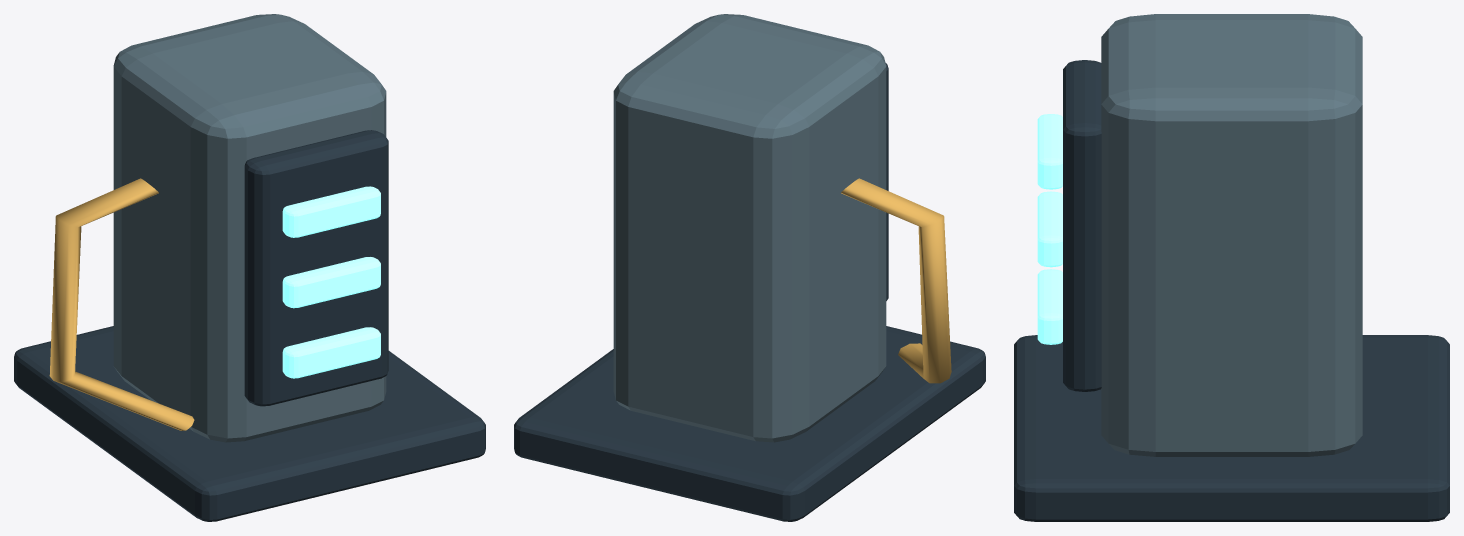
File: SM_Checkpoint.fbx
3 renders of one model, left to right at view 1: azimuth 30°, elevation 25°; view 2: azimuth 150°, elevation 25°; view 3: azimuth 270°, elevation 25°, orthographic. The views are drawn at different scales.
Parts seen in each view (by area): view 1: SM_Checkpoint; view 2: SM_Checkpoint; view 3: SM_Checkpoint.
Part boxes in pixels (x1,y1,x2,y2): SM_Checkpoint: [14, 14, 485, 521]; SM_Checkpoint: [514, 14, 985, 521]; SM_Checkpoint: [1014, 14, 1449, 521].
Bounding box in the file's own units: 100 × 100 × 100.
